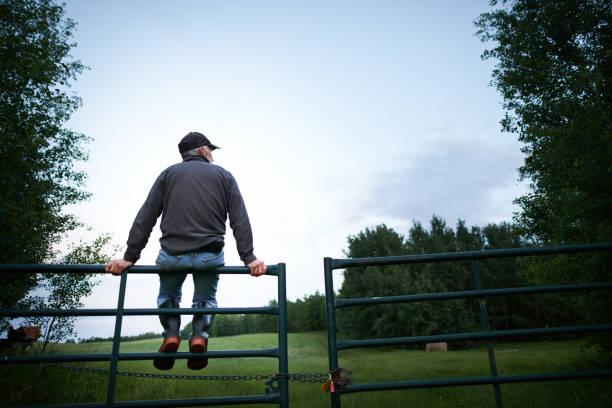Human: (112, 131, 266, 369)
